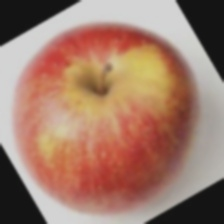apple: (14, 46, 185, 203)
